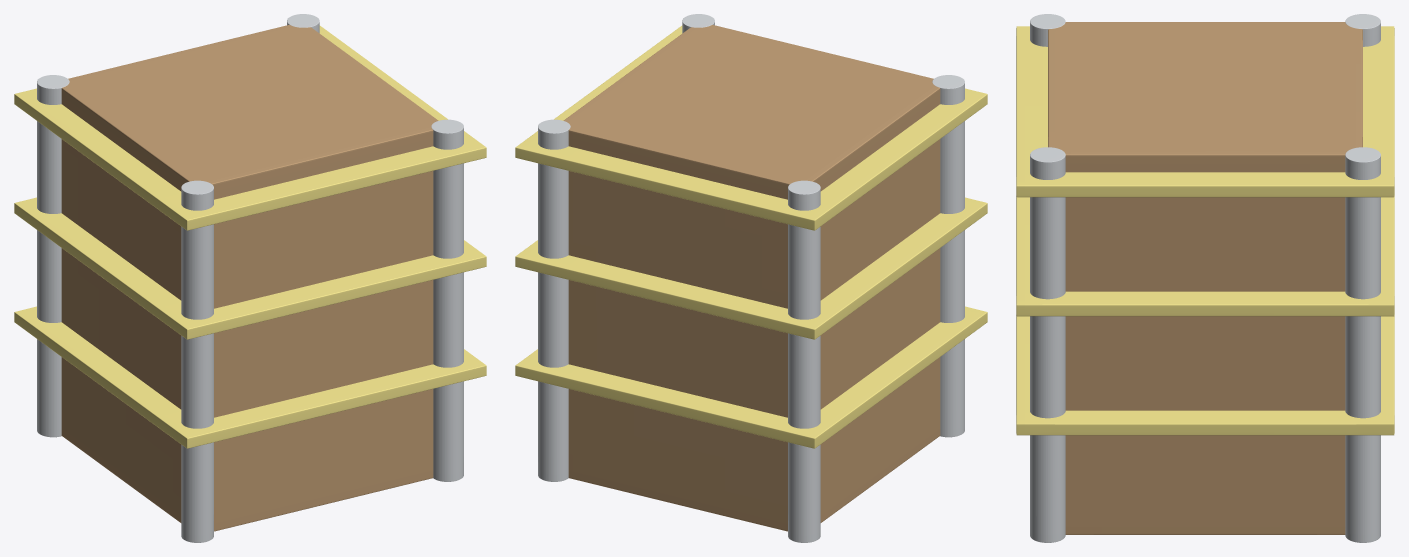
The model's file is Mega_TowerFort_Hi_205441.fbx.
3 views of the same model, side by side, from view 1: azimuth 30°, elevation 25°; view 2: azimuth 150°, elevation 25°; view 3: azimuth 270°, elevation 25° (orthographic). The views are drawn at different scales.
Parts seen in each view (by area): view 1: Cube, Cube.003, Cube.002, Cube.001, Cylinder, Cylinder.001, Cylinder.002; view 2: Cube, Cube.003, Cube.002, Cube.001, Cylinder.002, Cylinder.003, Cylinder; view 3: Cube, Cube.003, Cylinder.001, Cylinder.003, Cube.002, Cube.001, Cylinder, Cylinder.002.
Part boxes in pixels (x1,y1,x2,y2): Cube: [61, 25, 438, 531]; Cube.003: [14, 25, 486, 230]; Cube.002: [14, 197, 486, 339]; Cube.001: [14, 306, 486, 448]; Cylinder: [181, 180, 213, 542]; Cylinder.001: [431, 119, 463, 481]; Cylinder.002: [37, 75, 69, 437]; Cube: [563, 25, 940, 531]; Cube.003: [515, 25, 987, 230]; Cube.002: [515, 197, 987, 339]; Cube.001: [515, 306, 987, 448]; Cylinder.002: [788, 180, 820, 542]; Cylinder.003: [538, 119, 570, 481]; Cylinder: [932, 75, 964, 437]; Cube: [1048, 22, 1362, 534]; Cube.003: [1016, 26, 1394, 197]; Cylinder.001: [1030, 147, 1065, 542]; Cylinder.003: [1345, 147, 1380, 542]; Cube.002: [1016, 196, 1394, 316]; Cube.001: [1016, 315, 1394, 435]; Cylinder: [1030, 14, 1065, 46]; Cylinder.002: [1345, 14, 1380, 46].
Size of the model in its own units: 7.2 by 8 by 7.2.
